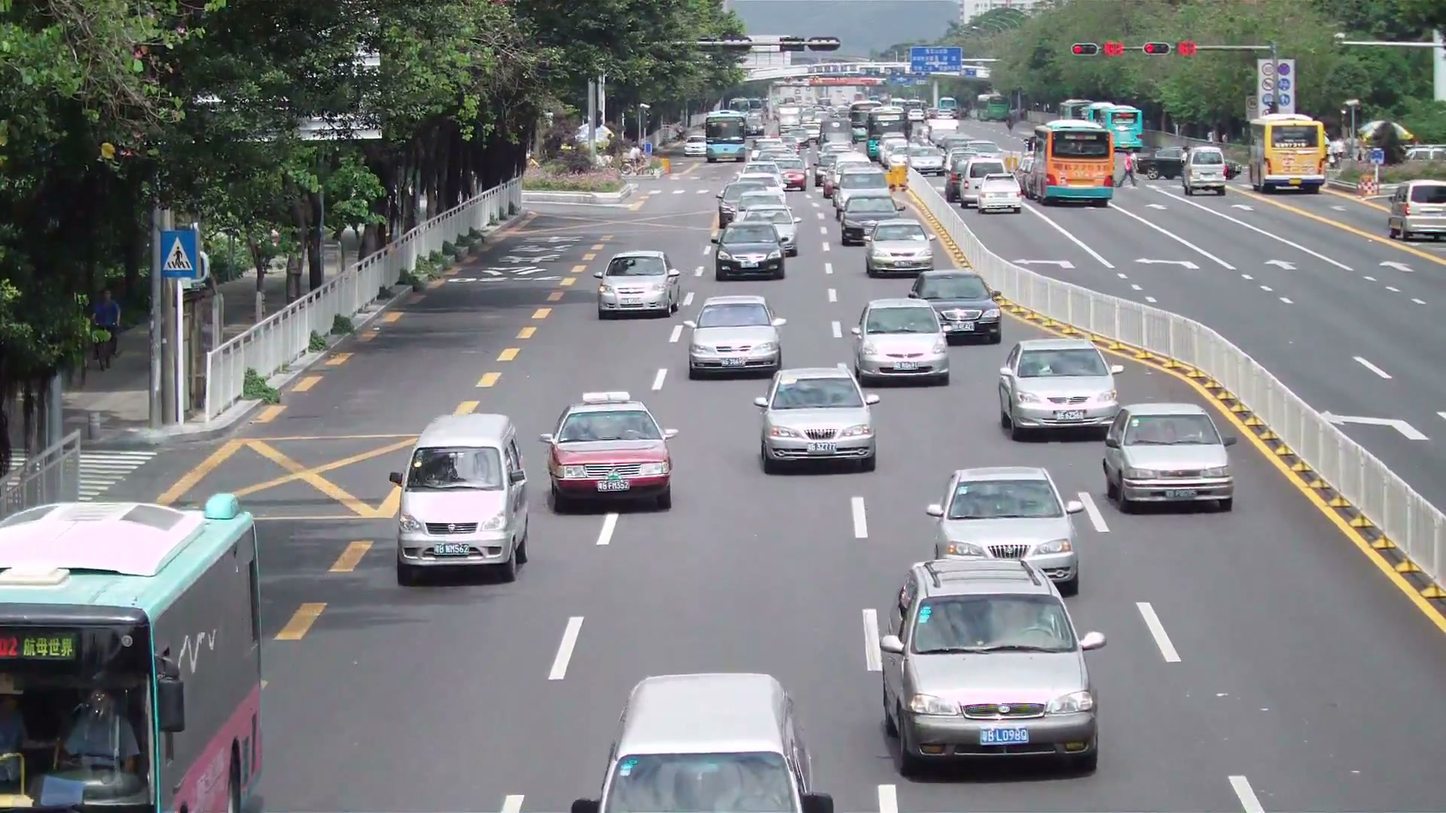bus: (1, 492, 267, 807)
car: (875, 554, 1104, 779), (598, 671, 829, 810), (391, 411, 532, 586), (924, 463, 1084, 598), (543, 398, 676, 514), (1100, 402, 1236, 514), (756, 363, 879, 474), (996, 336, 1121, 441), (852, 297, 952, 385), (685, 293, 784, 379), (912, 267, 1002, 347), (596, 248, 683, 319), (863, 219, 938, 277), (715, 223, 786, 280), (1387, 180, 1445, 242), (840, 189, 901, 245)
pedestrian: (57, 678, 141, 771), (90, 285, 121, 369)
truck: (1022, 119, 1114, 207), (1246, 113, 1330, 193), (1062, 100, 1147, 173), (1180, 144, 1229, 196)
